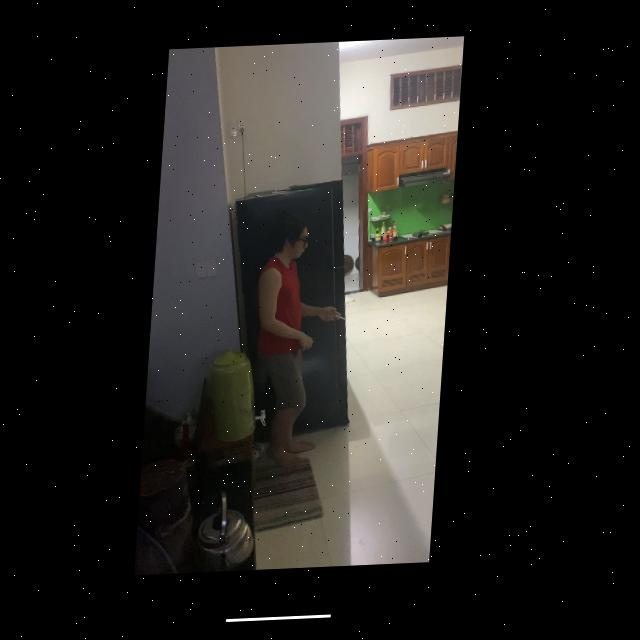cigarette: (343, 319, 350, 323)
